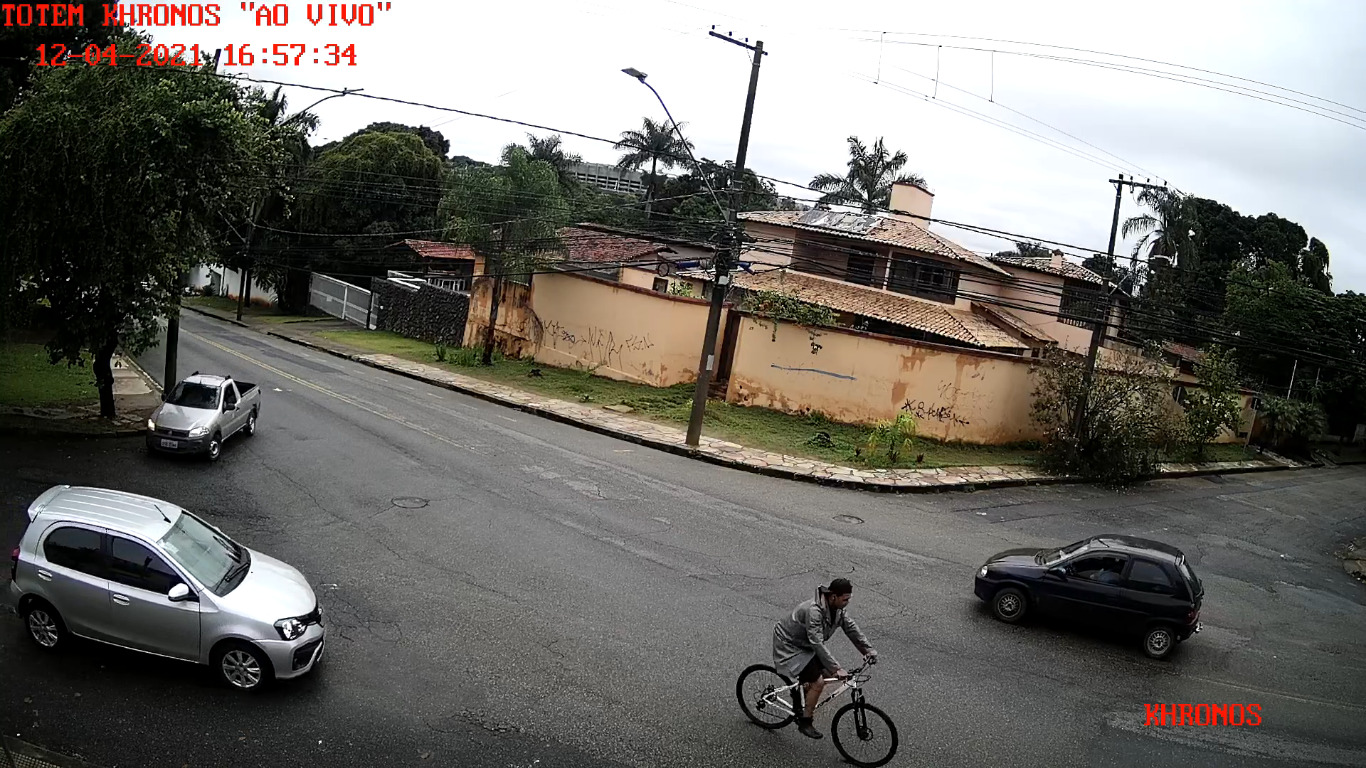car: (10, 484, 326, 691), (975, 533, 1204, 661), (147, 372, 260, 460)
